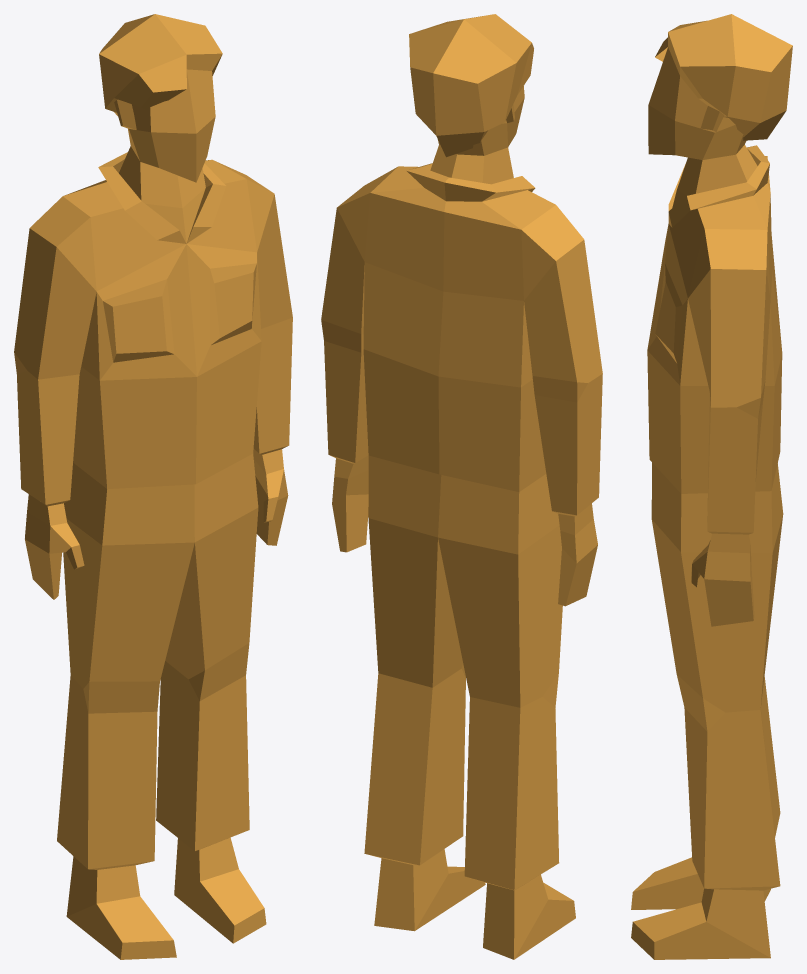
File: man-explorer.fbx
3 views of the same model, side by side, from view 1: azimuth 30°, elevation 25°; view 2: azimuth 150°, elevation 25°; view 3: azimuth 270°, elevation 25° (orthographic).
Visible parts, largest first — view 1: man-explorer; view 2: man-explorer; view 3: man-explorer.
Part boxes in pixels (left/top/right/bottom): man-explorer: left=14, top=14, right=292, bottom=959; man-explorer: left=321, top=14, right=602, bottom=959; man-explorer: left=631, top=14, right=792, bottom=959.
Size of the model in its own units: 0.5438 by 1.84 by 0.296.
